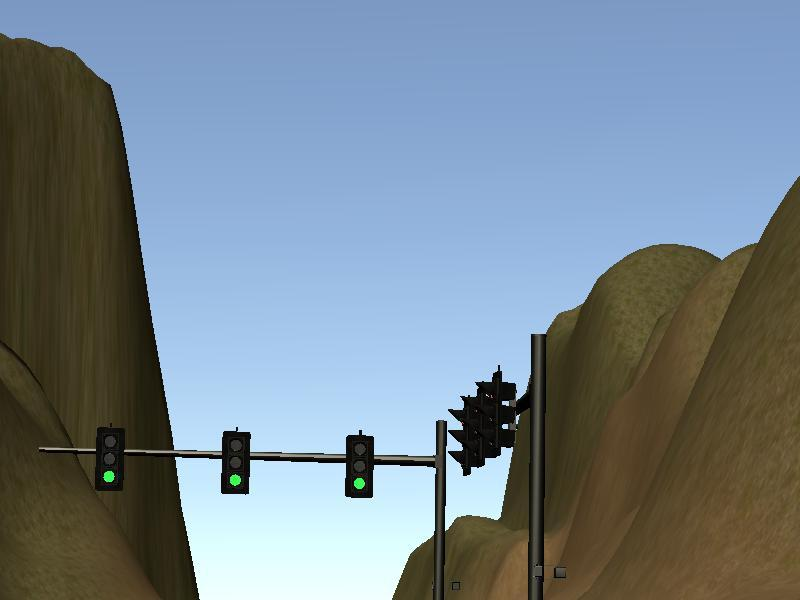Green: (95, 427, 125, 491), (221, 432, 250, 495), (345, 434, 373, 499)
